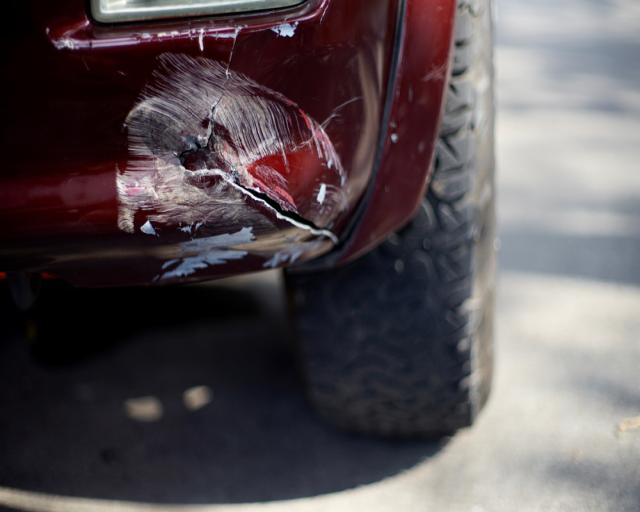crack: (230, 179, 337, 240)
scratch: (109, 49, 358, 283)
